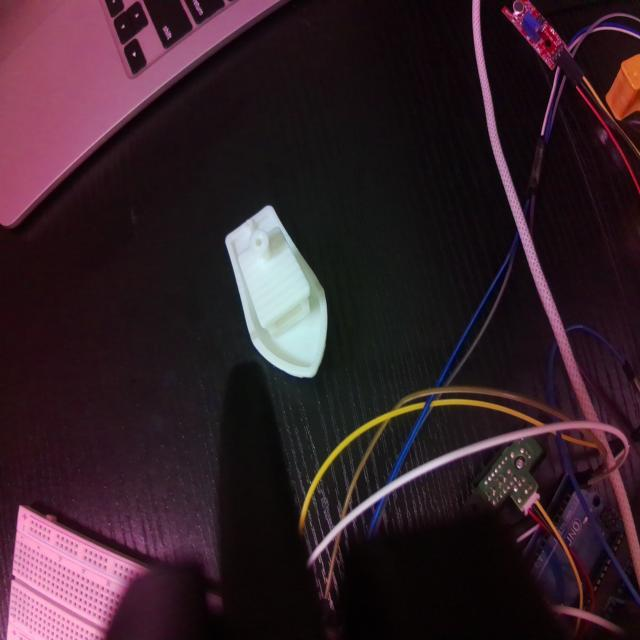ship: (223, 202, 329, 380)
